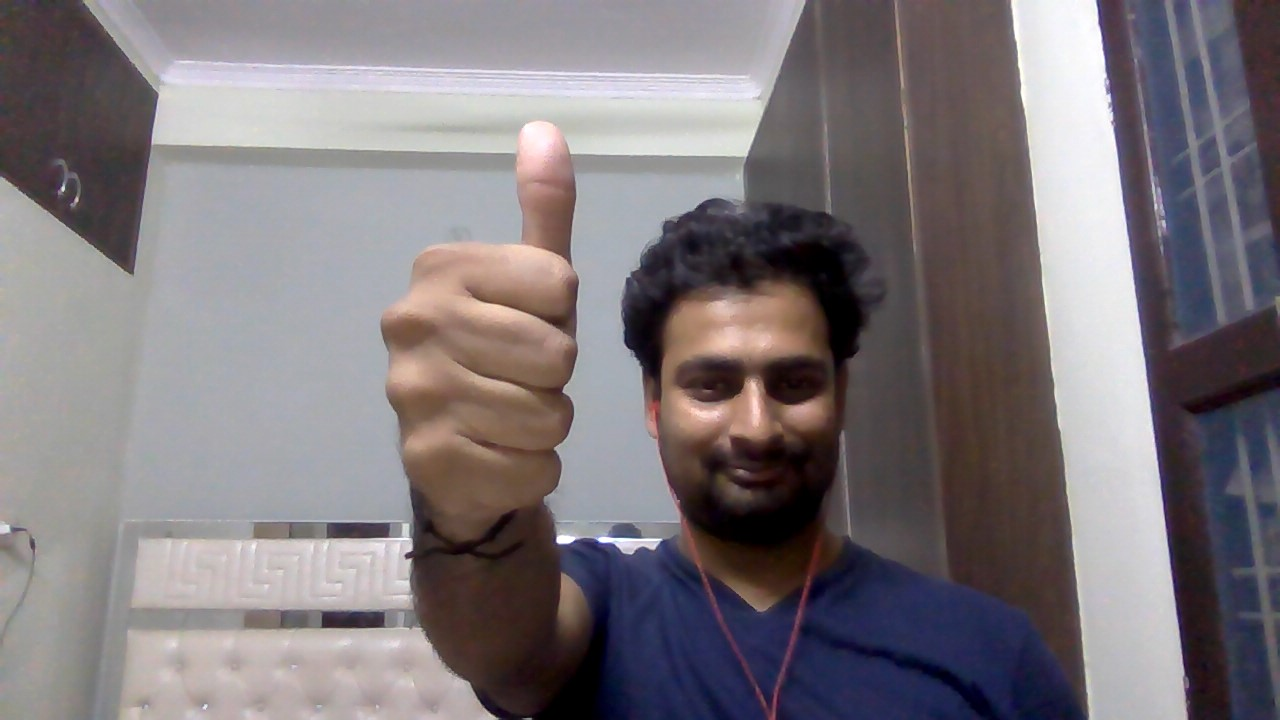Save: (359, 117, 594, 533)
